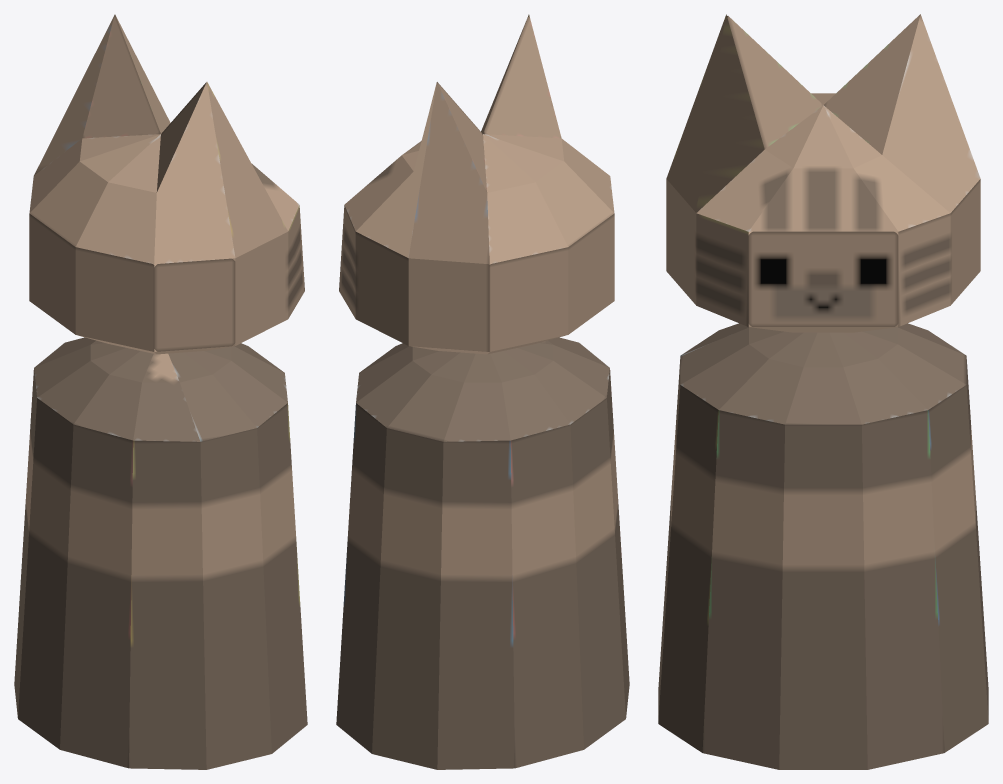
Rendered from NPC 2.obj.
3 views of the same model, side by side, from view 1: azimuth 30°, elevation 25°; view 2: azimuth 150°, elevation 25°; view 3: azimuth 270°, elevation 25° (orthographic). The views are drawn at different scales.
Visible parts, largest first — view 1: sphere; view 2: sphere; view 3: sphere.
Boxes of the visible parts, box(x1,y1,x2,y2) form: sphere: box(14, 14, 307, 769); sphere: box(336, 14, 629, 769); sphere: box(658, 14, 988, 769).
Size of the model in its own units: 0.2812 by 0.7233 by 0.3125.
